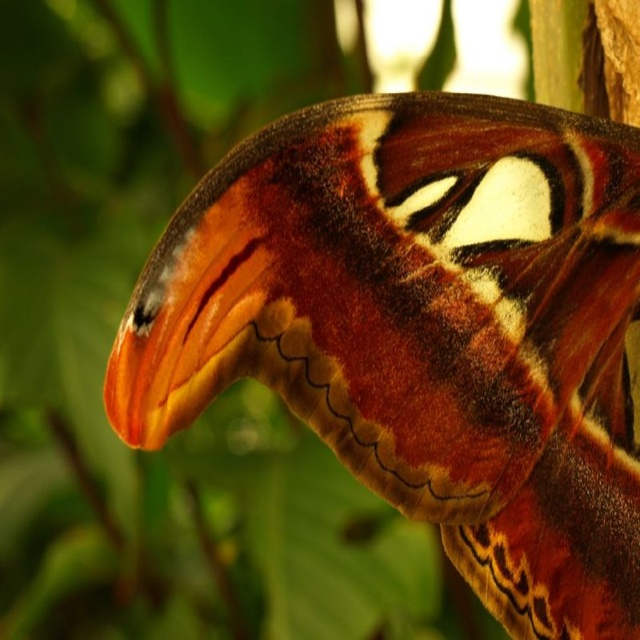Butterfly: (136, 78, 635, 640)
